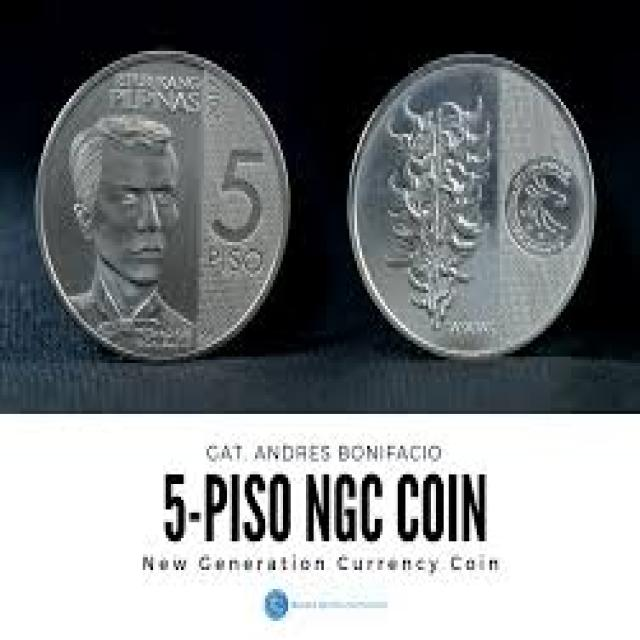5 peso: (35, 48, 293, 374), (342, 46, 600, 367)
